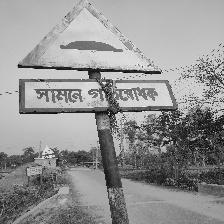Speed-breaker: (17, 0, 171, 114)
